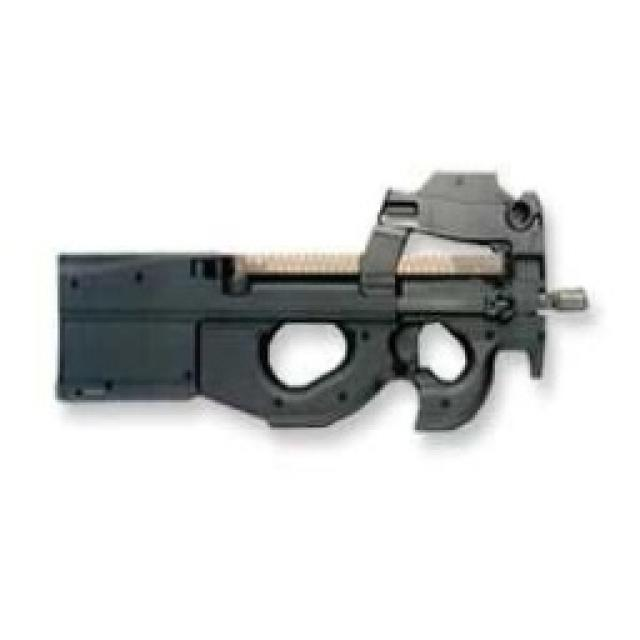long weapon: (31, 178, 598, 486)
